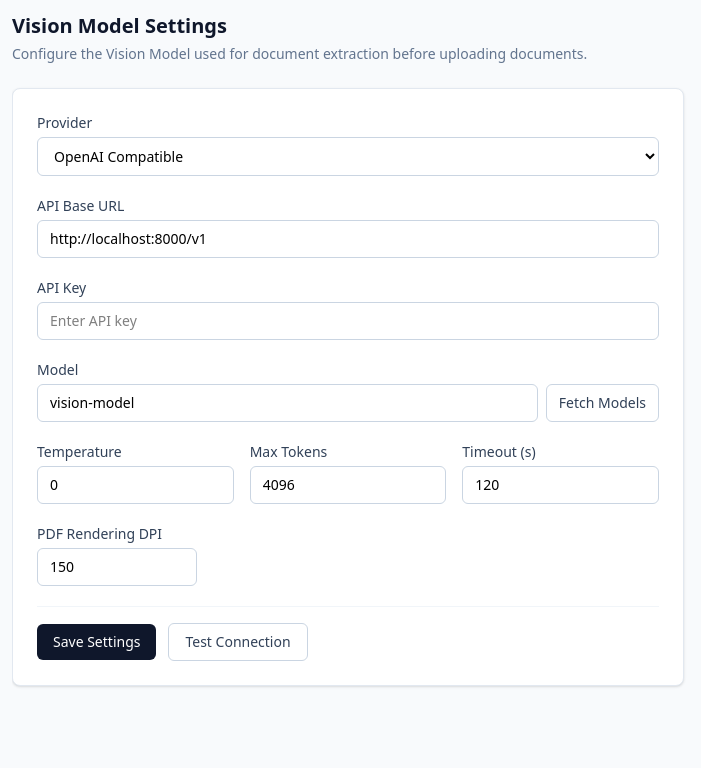
Test: SettingsPage › shows a failure message when the connection test fails
Check: the field showing "http://localhost:8000/v1" below "API Base URL" is shown, box [37,220,659,258]
Click the button "Test Connection" at (238, 642), box [168,623,308,661]
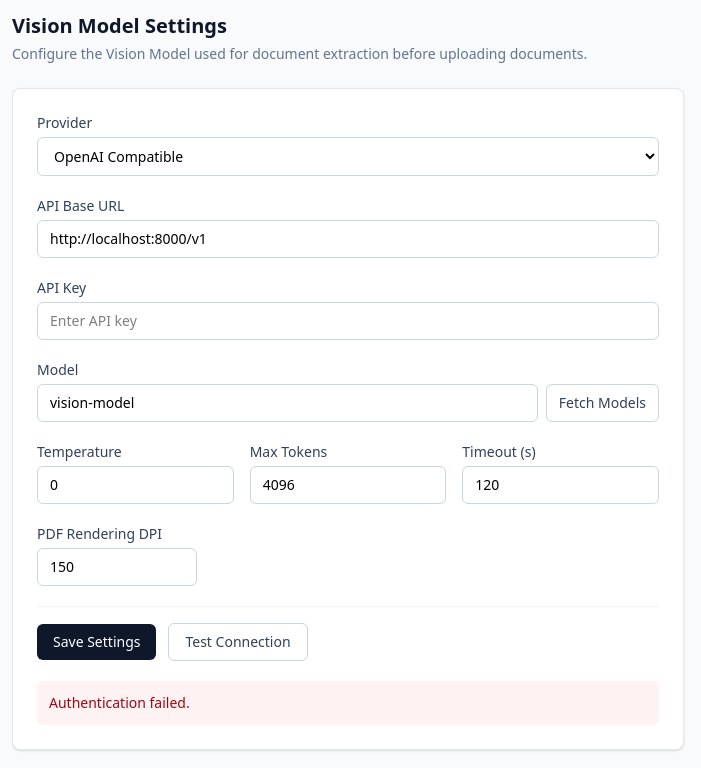
Check: the text "Authentication failed." is shown, box [49,693,190,712]
